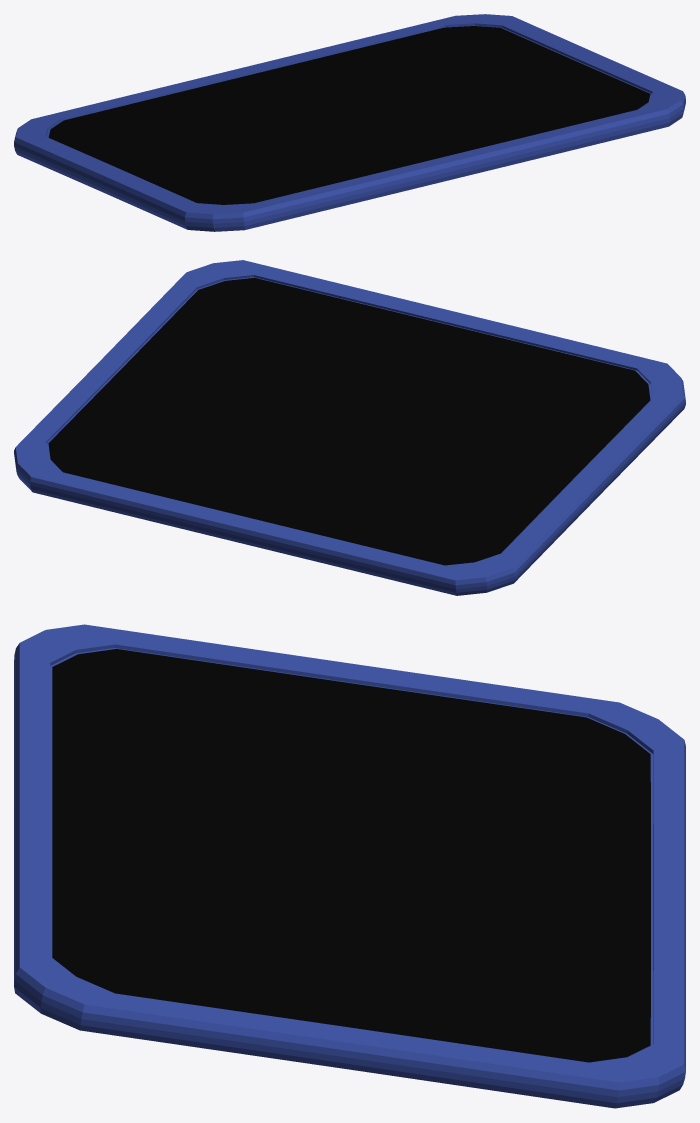
File: tablet_V2.fbx
3 views of the same model, one above another, from view 1: azimuth 30°, elevation 25°; view 2: azimuth 150°, elevation 25°; view 3: azimuth 270°, elevation 25° (orthographic). The views are drawn at different scales.
Visible parts, largest first — view 1: Circle.003; view 2: Circle.003; view 3: Circle.003.
Part boxes in pixels (bbox=[...]): Circle.003: bbox=[14, 14, 685, 231]; Circle.003: bbox=[14, 260, 685, 595]; Circle.003: bbox=[14, 624, 685, 1108].
Size of the model in its own units: 303 by 45.32 by 225.
